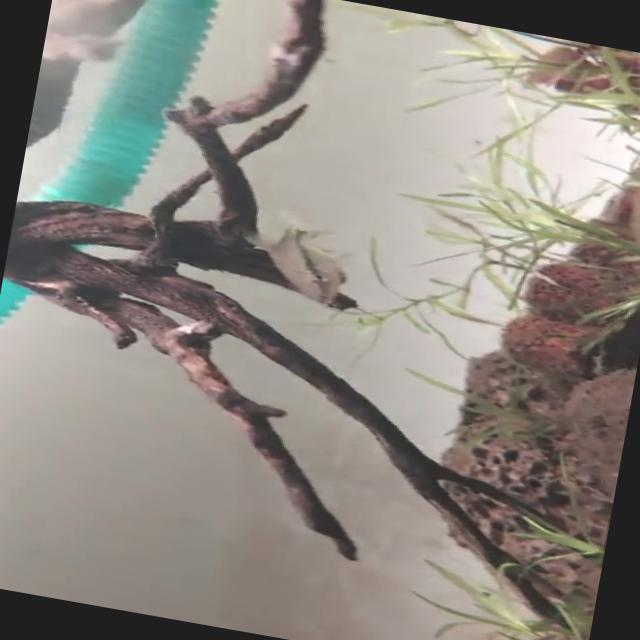Cakil Baligi: (225, 199, 362, 308)
